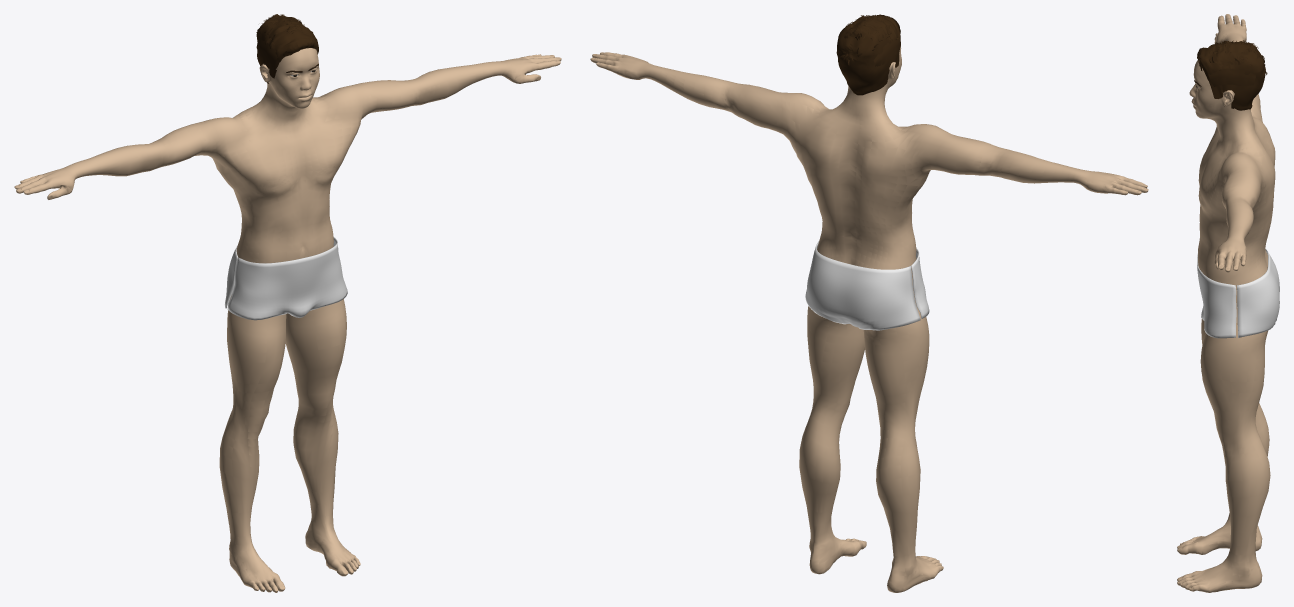
The model's file is man_final.fbx.
3 views of the same model, side by side, from view 1: azimuth 30°, elevation 25°; view 2: azimuth 150°, elevation 25°; view 3: azimuth 270°, elevation 25° (orthographic). The views are drawn at different scales.
Parts seen in each view (by area): view 1: models_manMesh, 평면, short01Mesh; view 2: models_manMesh, 평면, short01Mesh; view 3: models_manMesh, 평면, short01Mesh.
Part boxes in pixels (x1,y1,x2,y2): models_manMesh: [14, 48, 561, 592]; 평면: [224, 236, 347, 320]; short01Mesh: [256, 14, 318, 83]; models_manMesh: [590, 46, 1148, 592]; 평면: [805, 241, 929, 330]; short01Mesh: [836, 14, 900, 95]; models_manMesh: [1177, 14, 1275, 592]; 평면: [1197, 248, 1279, 338]; short01Mesh: [1197, 40, 1267, 110].
Size of the model in its own units: 1852 by 1772 by 314.
